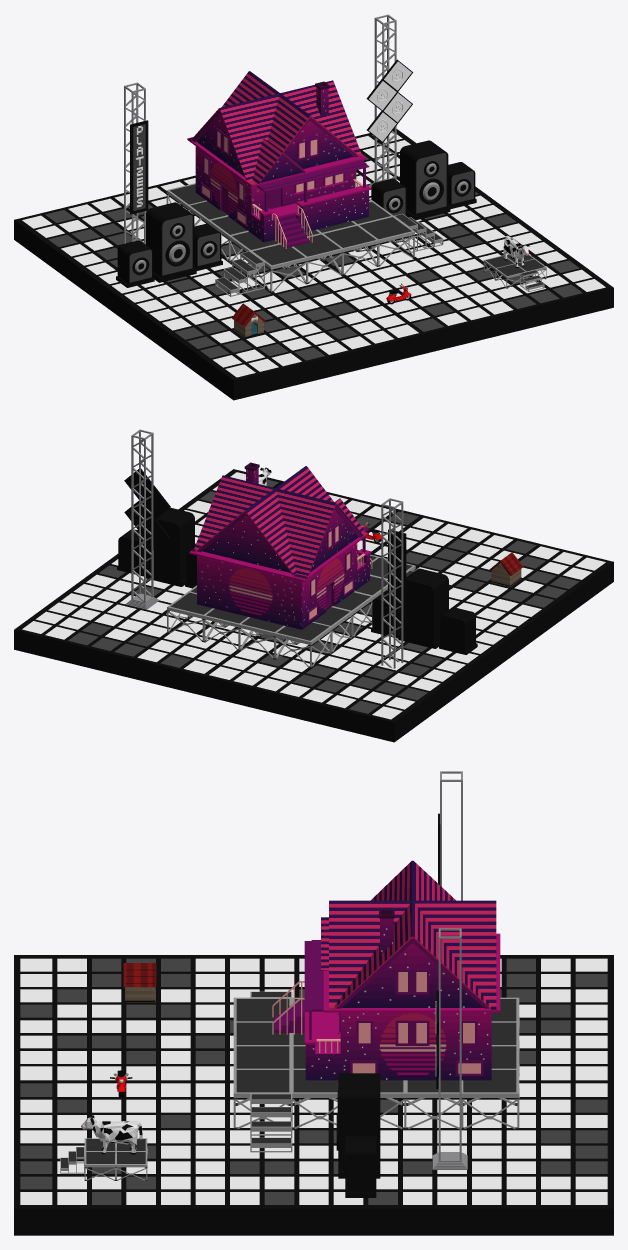
3 renders of one model, top to bottom at view 1: azimuth 30°, elevation 25°; view 2: azimuth 150°, elevation 25°; view 3: azimuth 270°, elevation 25°, orthographic. The views are drawn at different scales.
Visible parts, largest first — view 1: Cube.008, Cube.156, OBJRANDOM_DOGHOUSE; view 2: Cube.008, Cube.156, OBJRANDOM_DOGHOUSE; view 3: Cube.008, Cube.156, ANIMAL_VACA, OBJRANDOM_DOGHOUSE.
Part boxes in pixels (bbox=[...]): Cube.008: bbox=[14, 14, 613, 400]; Cube.156: bbox=[187, 71, 371, 248]; OBJRANDOM_DOGHOUSE: bbox=[232, 303, 265, 337]; Cube.008: bbox=[14, 429, 613, 742]; Cube.156: bbox=[189, 462, 372, 629]; OBJRANDOM_DOGHOUSE: bbox=[489, 552, 523, 586]; Cube.008: bbox=[14, 771, 613, 1235]; Cube.156: bbox=[272, 860, 500, 1080]; ANIMAL_VACA: bbox=[81, 1115, 142, 1154]; OBJRANDOM_DOGHOUSE: bbox=[123, 963, 156, 1001].
Size of the model in its own units: 4000 by 1975 by 4000.
Materials: 38 (3 with a texture image).
